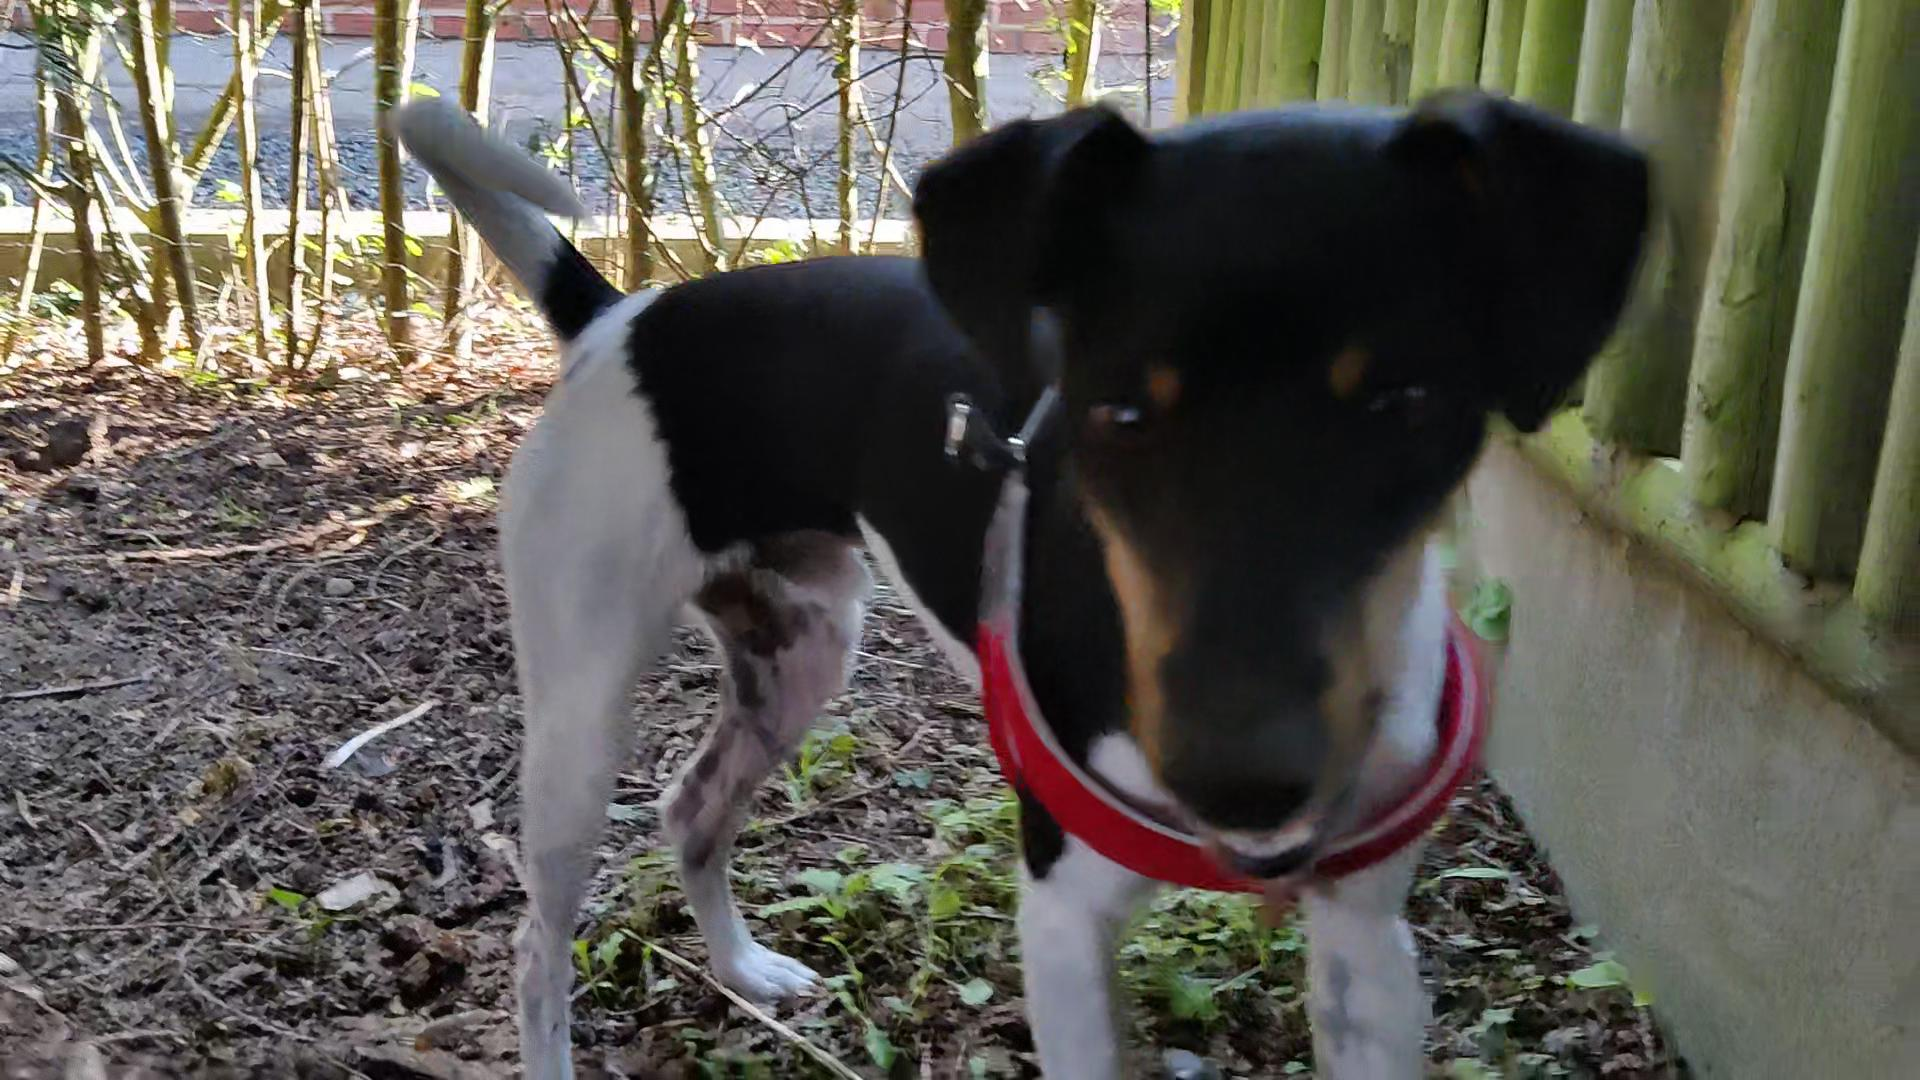Dog: (367, 49, 1677, 1079)
